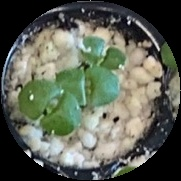Basil: (20, 81, 81, 133), (57, 68, 125, 106), (82, 34, 127, 73)
